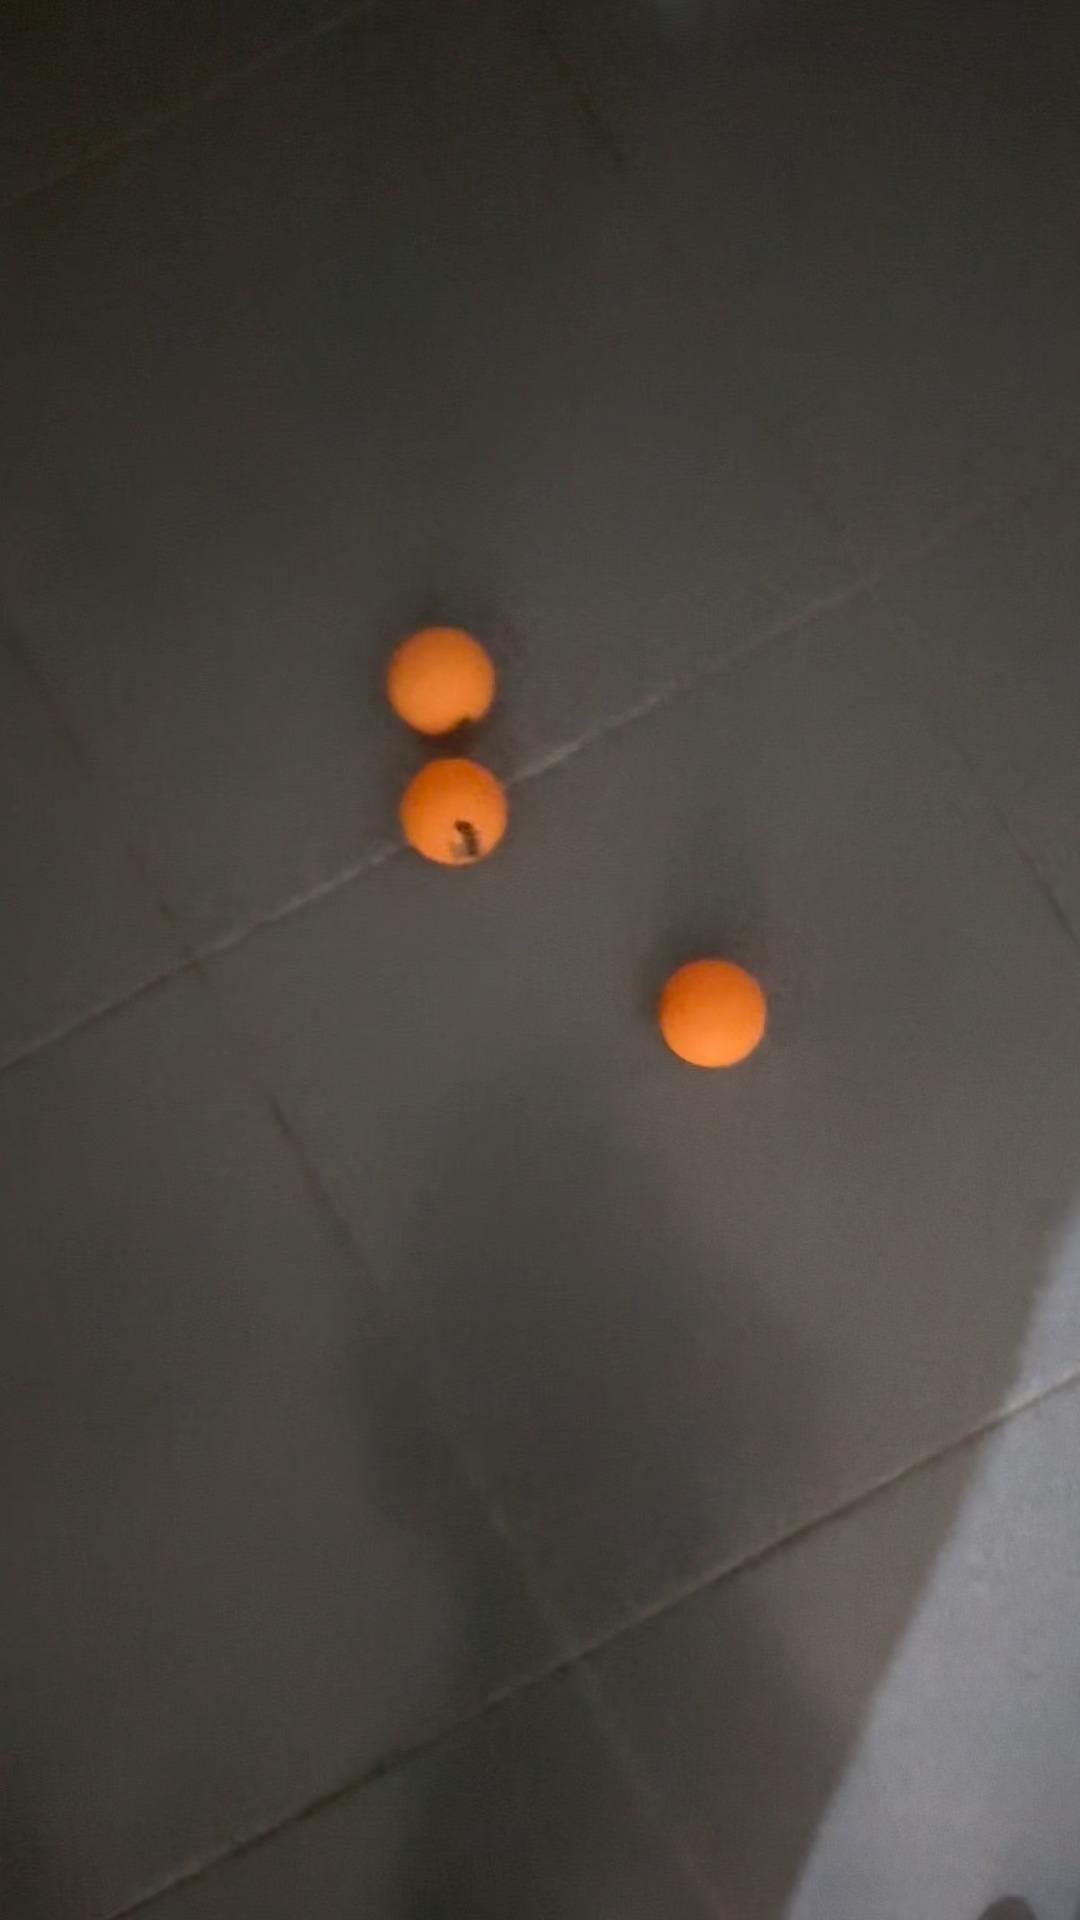oball: (654, 955, 789, 1080), (398, 748, 535, 866), (385, 615, 506, 746)
